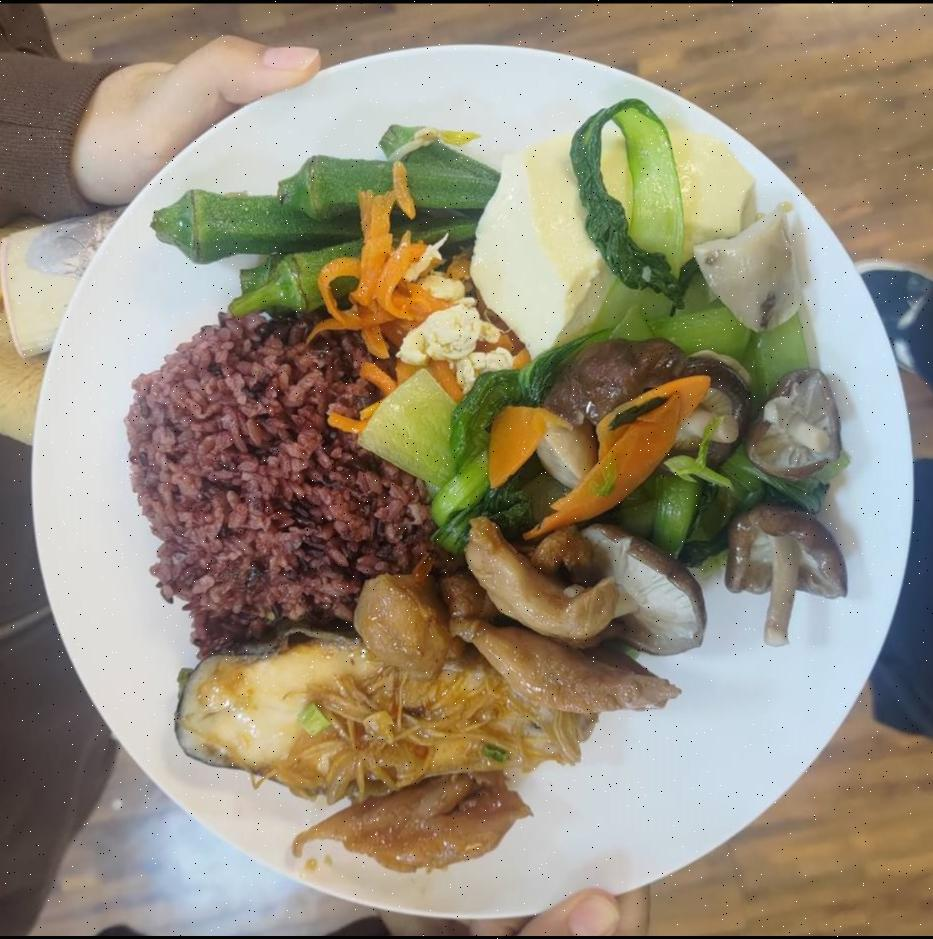braised fish: (170, 626, 602, 796)
plate: (11, 34, 916, 912)
purple rice: (112, 304, 426, 644)
side dish: (389, 115, 822, 556), (482, 350, 862, 646), (459, 119, 752, 352), (146, 146, 496, 323)
three cup chicken: (344, 532, 668, 714), (301, 770, 525, 874)
